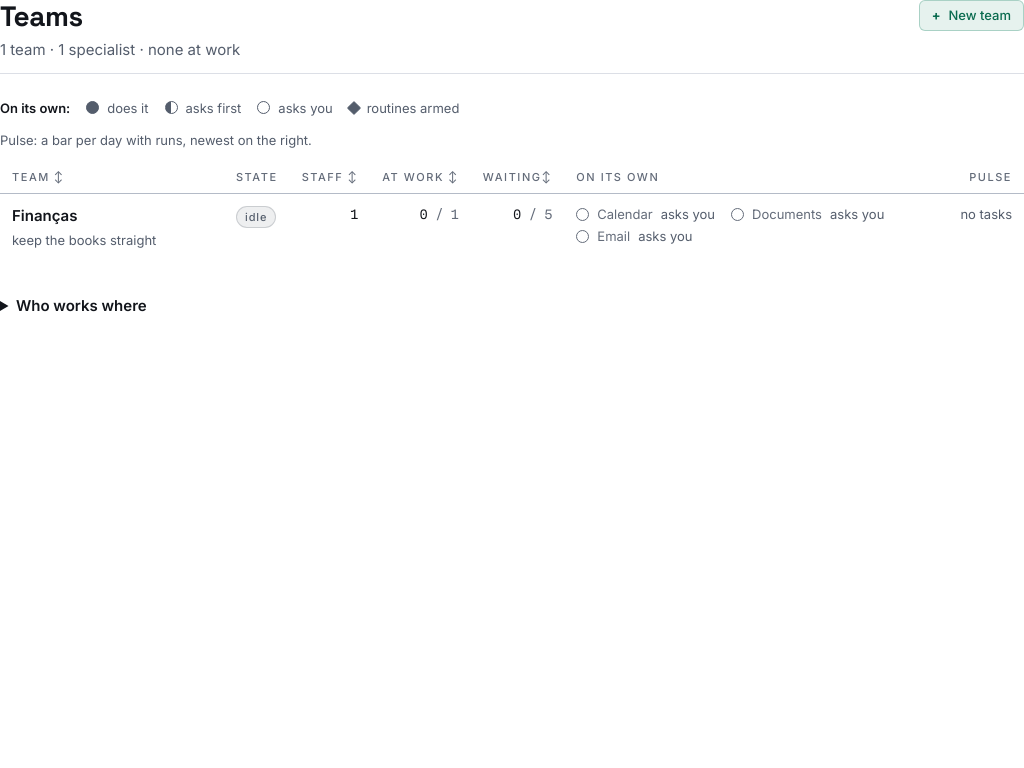
Test: Teams - the headline › closes the dialog on Escape and on its Close button
Click the button "New team" at (971, 16), box [919, 0, 1023, 31]
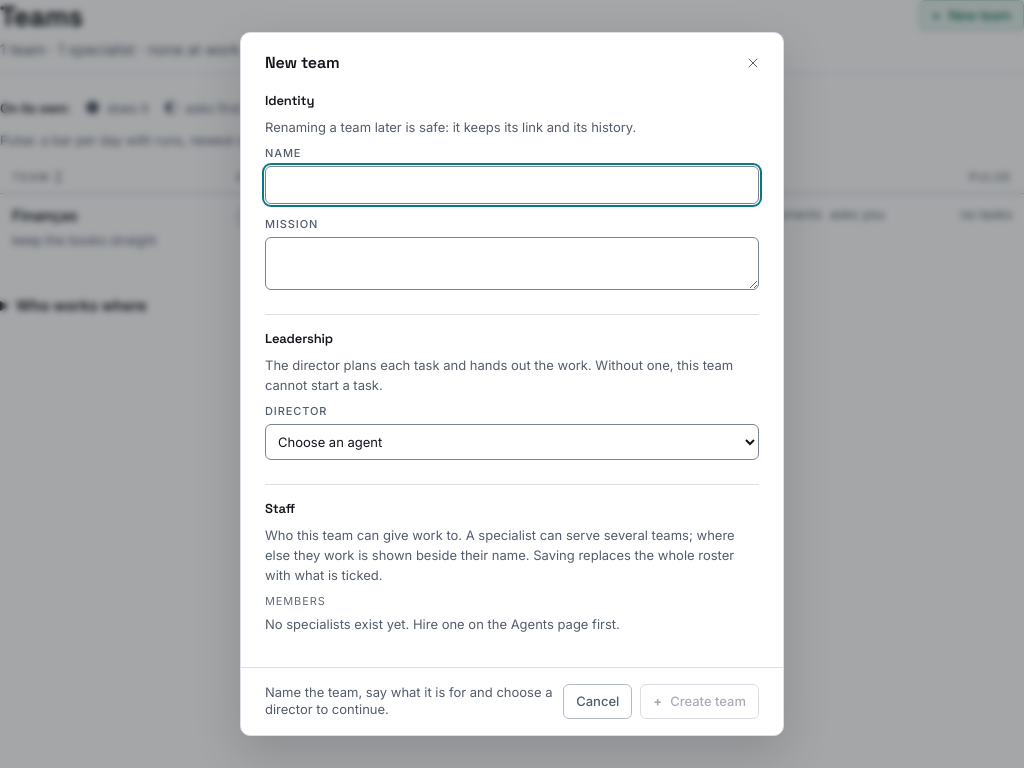
expect the dialog "New team" is shown: met
Press Escape in the dialog, box [240, 32, 784, 736]
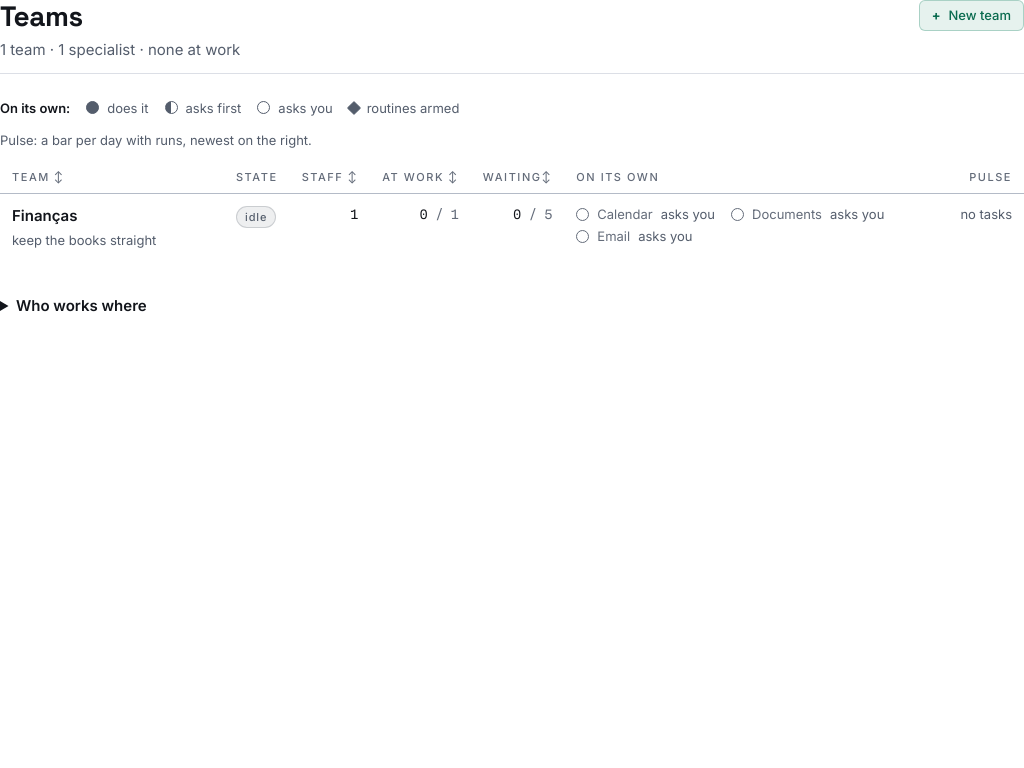
expect the dialog is gone: met
Click the button "New team" at (971, 16), box [919, 0, 1023, 31]
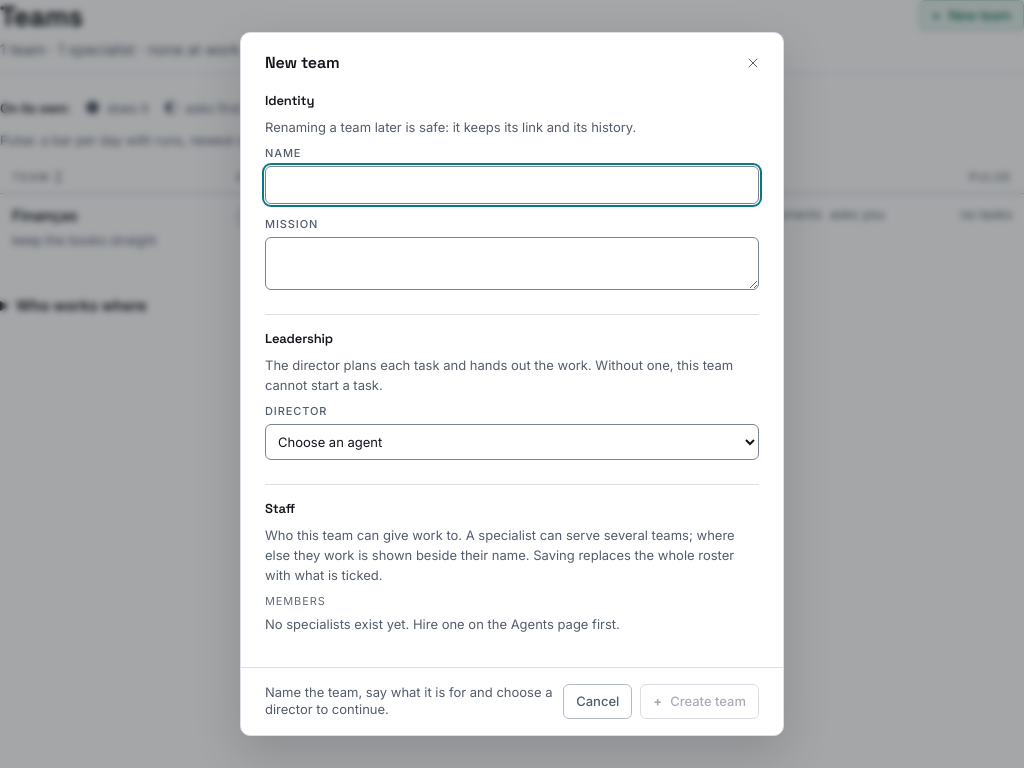
Click the button named "Close" at (753, 63), box [739, 49, 767, 77]
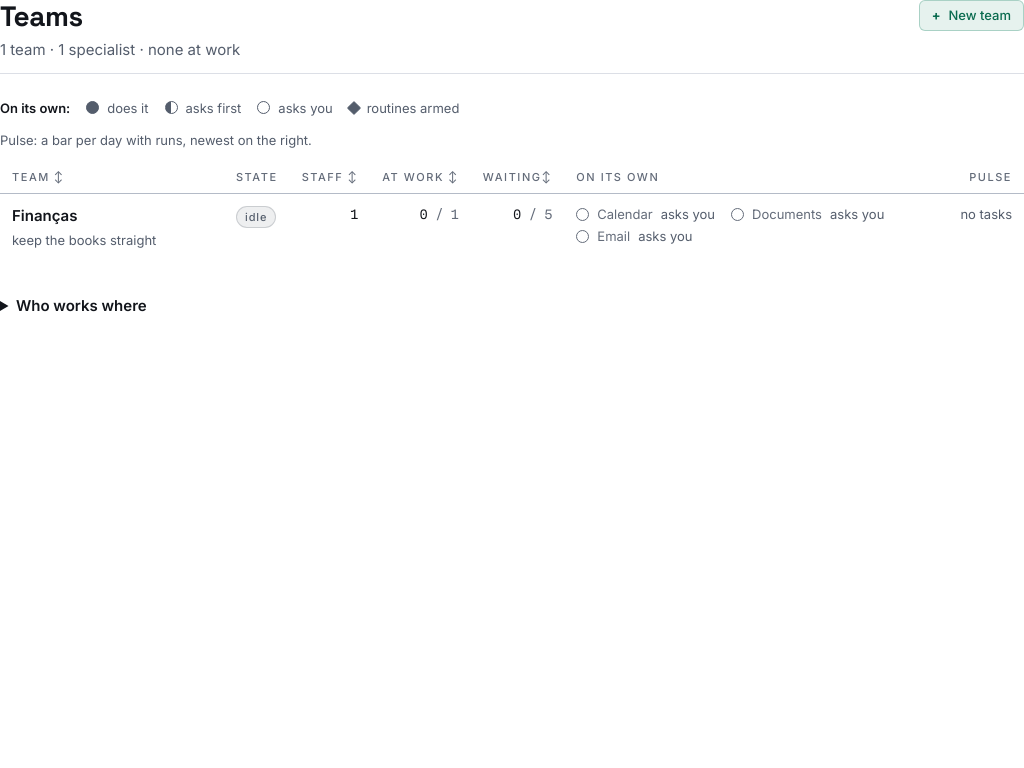
expect the dialog is gone: met
